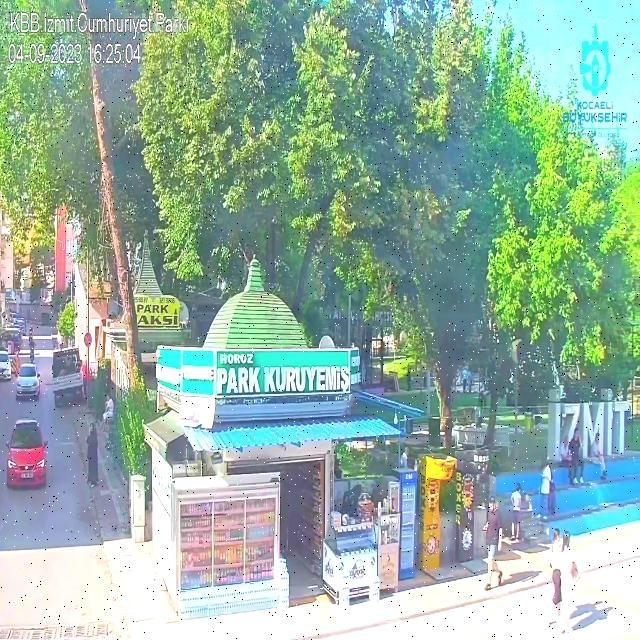Car: (6, 419, 50, 489), (14, 363, 42, 399)
Truck: (51, 347, 84, 408), (0, 350, 13, 382)
